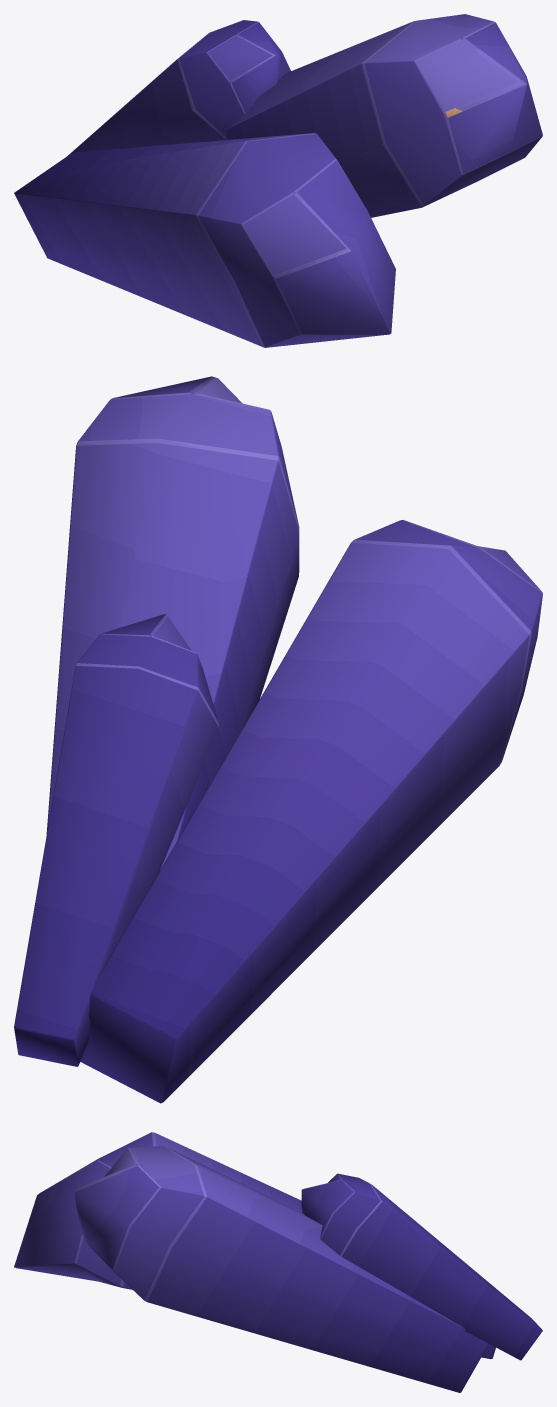
File: Thermal Haul_Item_Crystal0.glb
3 views of the same model, one above another, from view 1: azimuth 30°, elevation 25°; view 2: azimuth 150°, elevation 25°; view 3: azimuth 270°, elevation 25° (orthographic). The views are drawn at different scales.
Parts seen in each view (by area): view 1: GemDeposit.003, GemDeposit.001, GemDeposit.002; view 2: GemDeposit.003, GemDeposit.001, GemDeposit.002; view 3: GemDeposit.001, GemDeposit.002, GemDeposit.003.
Boxes of the visible parts, x1,y1,x2,y2 form: GemDeposit.003: [14, 133, 395, 347]; GemDeposit.001: [202, 14, 542, 217]; GemDeposit.002: [68, 20, 290, 155]; GemDeposit.003: [80, 520, 542, 1103]; GemDeposit.001: [46, 376, 299, 870]; GemDeposit.002: [14, 614, 218, 1066]; GemDeposit.001: [74, 1146, 488, 1392]; GemDeposit.002: [301, 1173, 542, 1360]; GemDeposit.003: [14, 1132, 495, 1359].
Size of the model in its own units: 0.704 by 0.6784 by 1.23.
1 material, 1 textured.
